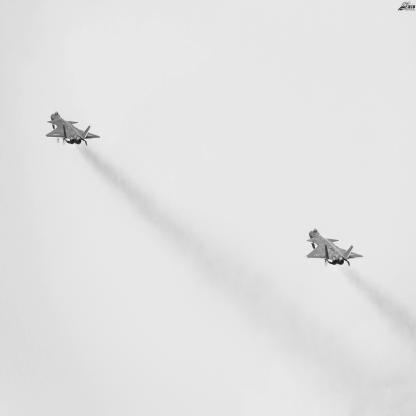J20: (305, 230, 365, 268), (45, 112, 104, 147)
